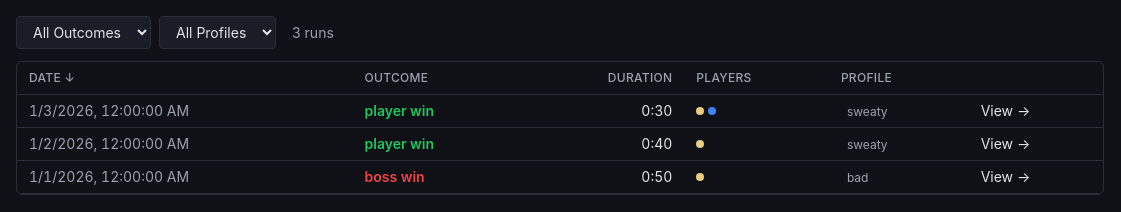
Test case: RunsTable › filters by outcome
Select "Loss" in the 1st dropdown at (84, 32), box [16,16,151,49]
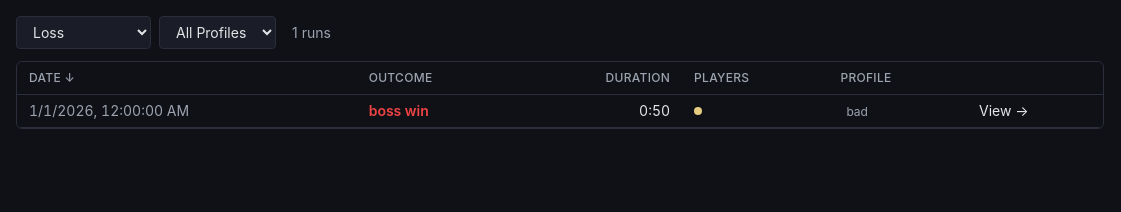
Now the text "1 runs" is shown, box [292,22,331,42]
